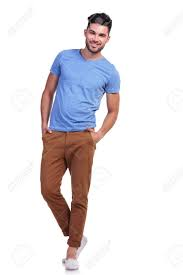standing: (26, 11, 127, 272)
